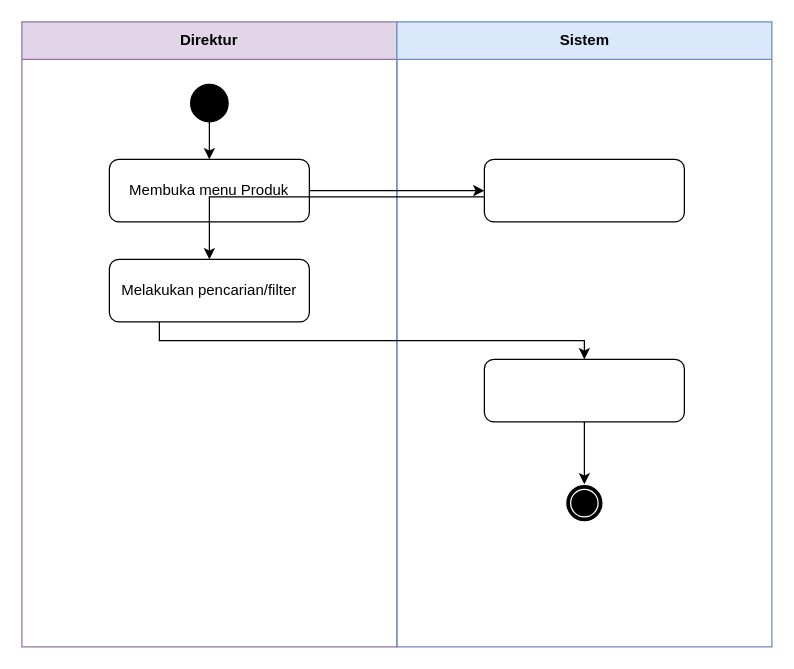
This 794x669 diagram has some shape labels left out. The centre of each missing label's shape, as x and y in pixels:
Menampilkan daftar produk: the point at 583,190
Menampilkan hasil pencarian: the point at 583,390
